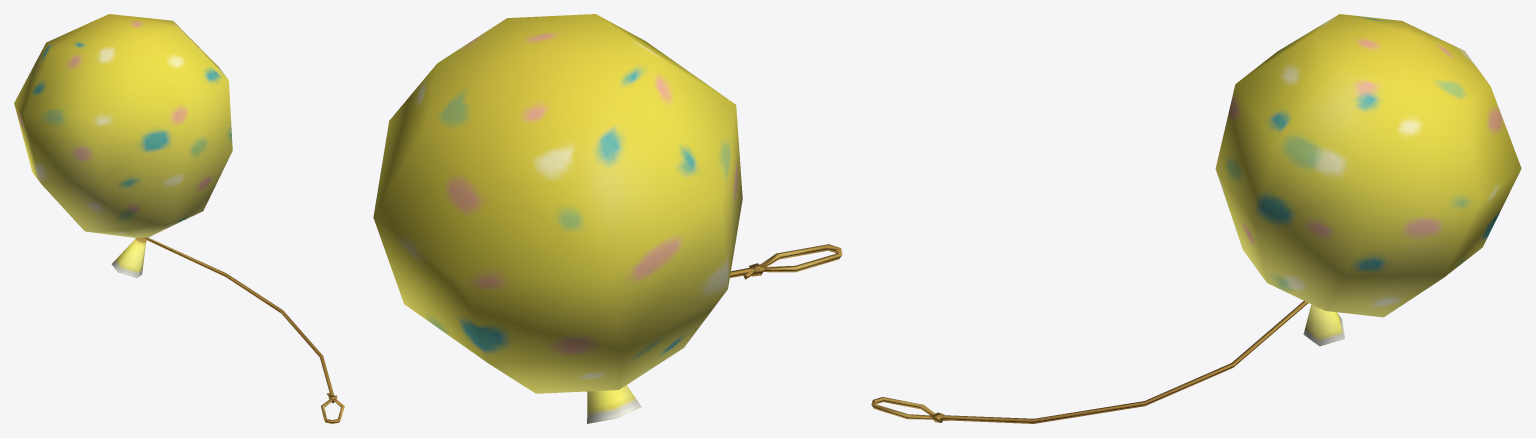
Rendered from jsf_WaterBalloon_16_e.fbx.
The picture shows the model from 3 angles, left to right: view 1: azimuth 30°, elevation 25°; view 2: azimuth 150°, elevation 25°; view 3: azimuth 270°, elevation 25°; orthographic projection. The views are drawn at different scales.
Parts seen in each view (by area): view 1: jsf_WaterBalloon_16_e; view 2: jsf_WaterBalloon_16_e; view 3: jsf_WaterBalloon_16_e.
Part boxes in pixels (x1,y1,x2,y2): jsf_WaterBalloon_16_e: (14, 14, 344, 423); jsf_WaterBalloon_16_e: (373, 14, 842, 423); jsf_WaterBalloon_16_e: (871, 14, 1521, 423).
Bounding box in the file's own units: 10.92 × 14.38 × 23.6.
